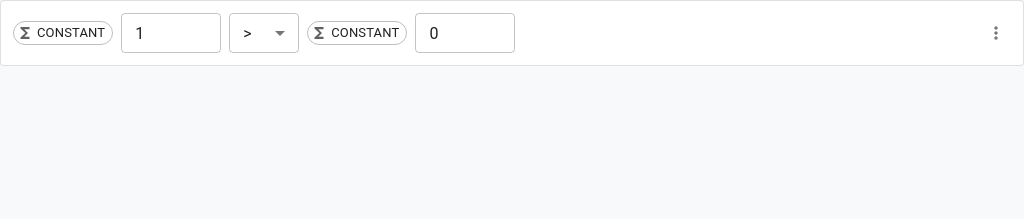
Test: ConditionNodeEditor › COMPARE Node › opens context menu with wrap options
# Open context menu
What coordinates should you click on to do the following:
click the 3rd button
I would click on:
 (996, 33)
Its box is [981,18,1011,48].
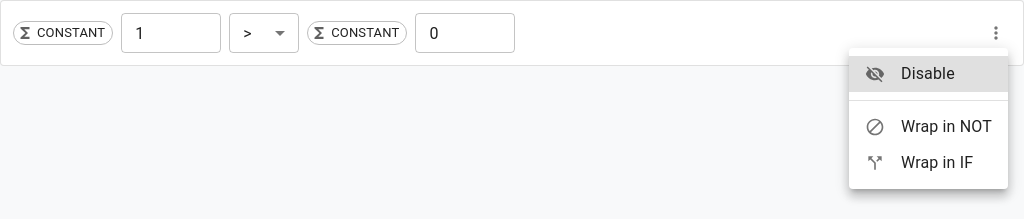
Expected: the text "Wrap in NOT" is shown, [901,115,992,139]
Expected: the text "Wrap in IF" is shown, [901,153,973,172]
